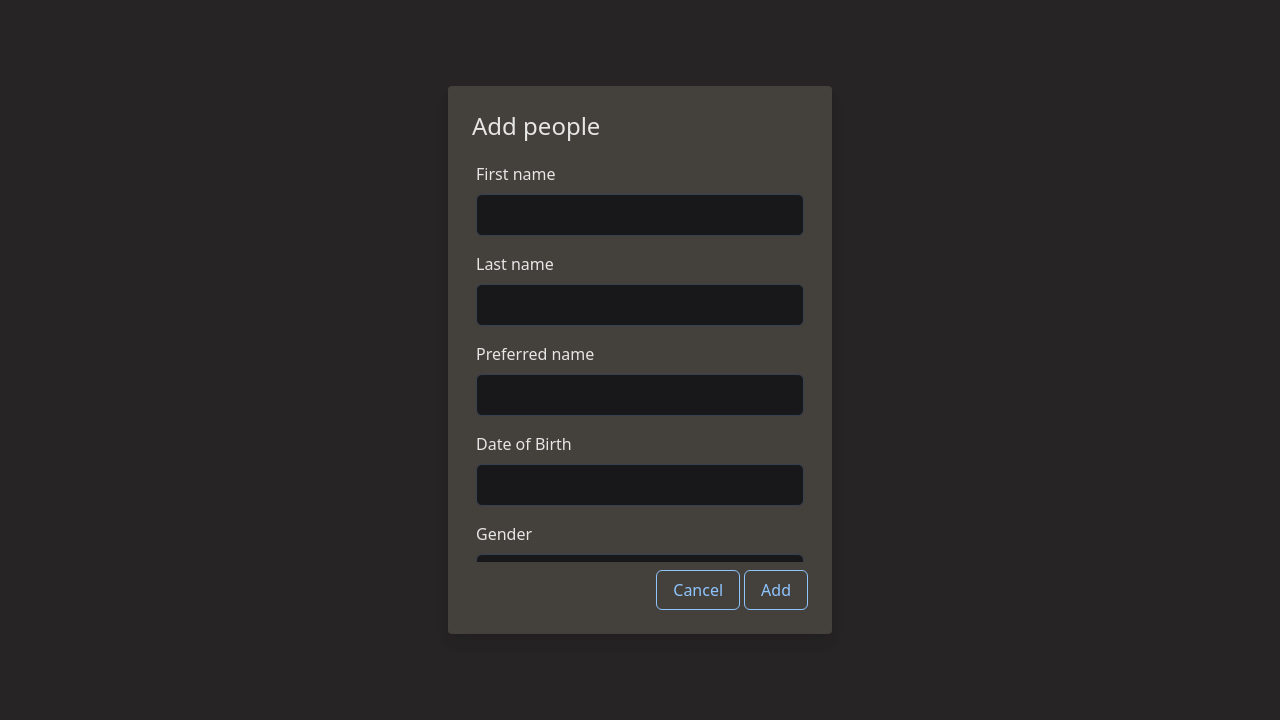
Test case: AddPeopleDialog › should show 'Fill up all the fields' error
Click the button with test id "add-button": (776, 590) [744,570,808,610]
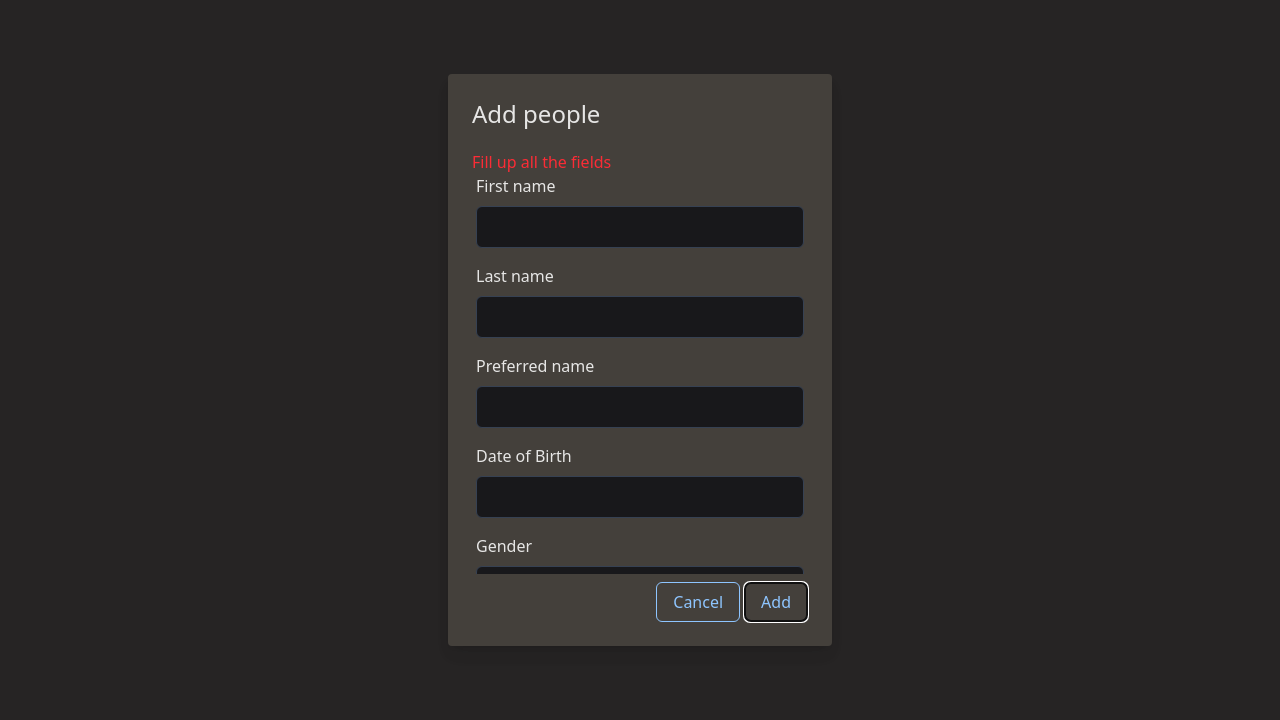
Result: the text "Fill up all the fields" is shown at [472,151,611,173]
